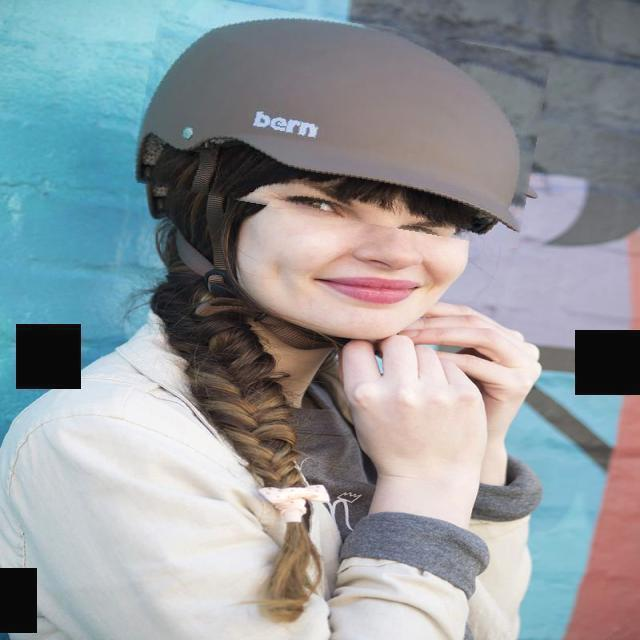helmet: (137, 5, 545, 232)
